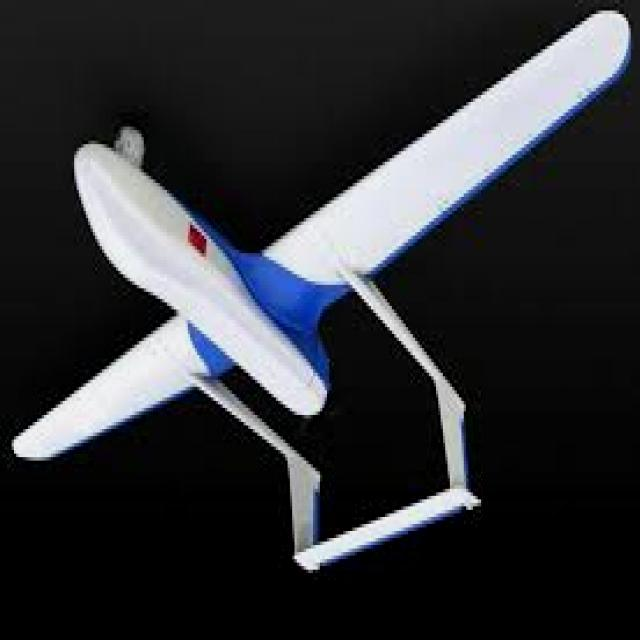plane: (10, 9, 631, 576)
